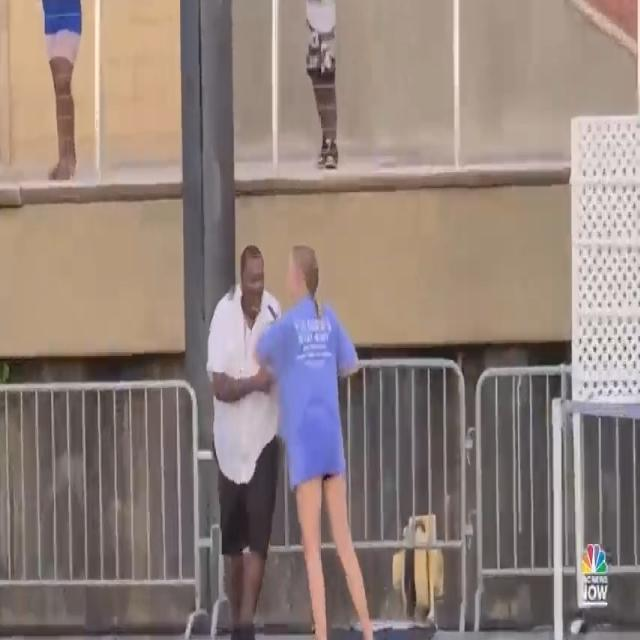fight: (204, 238, 379, 640)
